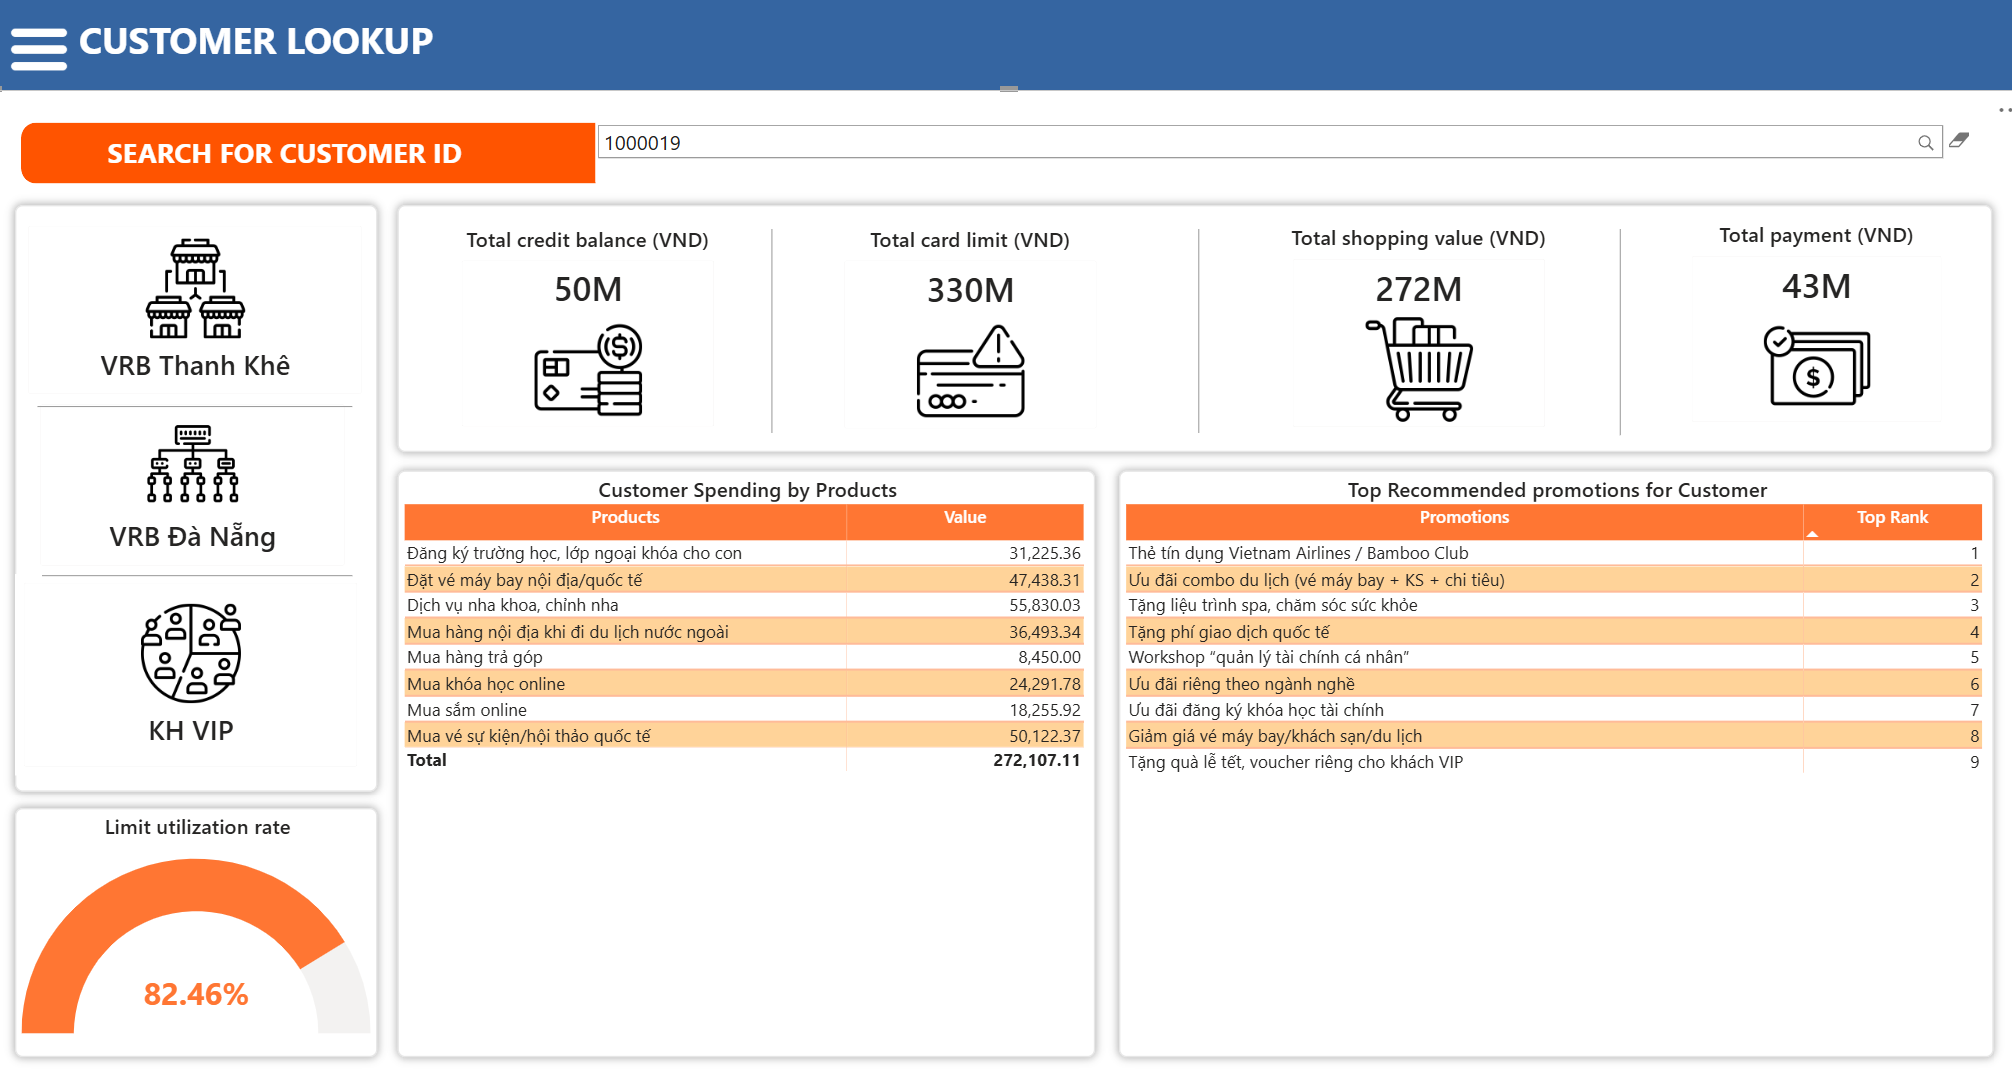

Layout of this report page (visuals, bound fields, positions):
{"tool":"powerbi","page":{"name":"Customer lookup","canvas":[4000,2133],"ordinal":2},"visuals":[{"type":"shape","box":[0,0,3998.8,187],"z":0},{"type":"shape","title":"TÌM KIẾM MÃ KHÁCH HÀNG","box":[63.6,250.6,1125.9,119.7],"z":0,"group":"g1"},{"type":"shape","box":[53.3,412.7,710.1,1149.4],"z":0,"group":"g2"},{"type":"shape","box":[1487.6,457.2,97.6,399.4],"z":0,"group":"g3"},{"type":"textbox","box":[80.8,267.6,997.7,87.1],"z":1000,"group":"g1"},{"type":"shape","box":[803.3,412.7,3124.3,483.7],"z":1000},{"type":"shape","box":[2290.9,457.2,159.8,399.4],"z":1000,"group":"g3"},{"type":"cardVisual","title":"Total credit balance (VND)","fields":{"Data":["DAX_MEASURE.GROUP_NAME"]},"box":[53.3,1136.1,687.9,395],"z":1000,"group":"g2"},{"type":"shape","box":[3116.3,457.2,159.8,403.8],"z":2000,"group":"g3"},{"type":"cardVisual","title":"Total credit balance (VND)","fields":{"Data":["DAX_MEASURE.brn_NAME"]},"box":[84.4,785.5,630.2,350.6],"z":2000,"group":"g2"},{"type":"textbox","box":[172.1,33.7,1298,119.7],"z":3000},{"type":"cardVisual","title":"Total credit balance (VND)","fields":{"Data":["DAX_MEASURE.su_brn_NAME"]},"box":[62.2,434.9,687.9,363.9],"z":3000,"group":"g2"},{"type":"cardVisual","title":"Total credit balance (VND)","fields":{"Data":["DAX_MEASURE.TT_CREDIT_BALANCE"]},"box":[910.7,448.3,528.1,412.7],"z":3000,"group":"g3"},{"type":"cardVisual","title":"Total card limit (VND)","fields":{"Data":["DAX_MEASURE.Card_limit"]},"box":[1660.7,448.3,528.1,417.2],"z":4000,"group":"g3"},{"type":"cardVisual","title":"Total payment (VND)","fields":{"Data":["DAX_MEASURE.TOTALPAYMENT"]},"box":[3320.5,439.4,523.7,412.7],"z":5000,"group":"g3"},{"type":"cardVisual","title":"Total shopping value (VND)","fields":{"Data":["Sum(CREDIT_USE_CUSTOMER.SHOPPING_VALUE)"]},"box":[2539.4,443.8,528.1,417.2],"z":6000,"group":"g3"},{"type":"gauge","title":"Limit utilization rate","fields":{"Y":["DAX_MEASURE.Tỷ lệ sử dụng hạn mức"]},"box":[53.3,1593.2,710.1,488.2],"z":8000},{"type":"group","id":"g1","title":"Group 9","box":[63.6,250.6,1125.9,119.7],"z":9000},{"type":"textFilter25A4896A83E0487089E2B90C9AE57C8A","fields":{"field":["CREDIT_USE_CUSTOMER.CUS_ID"]},"box":[1189.5,250.6,2708.2,116],"z":10000},{"type":"tableEx","title":"Customer Spending by Products","fields":{"Values":["DIM_PRODUCT.PD_NAME","Sum(CUS_X_PD.VALUE)"]},"box":[803.3,932,1366.9,1149.4],"z":11000},{"type":"group","id":"g2","title":"Group 1","box":[53.3,412.7,710.1,1149.4],"z":12000},{"type":"shape","box":[97.6,754.4,616.9,102.1],"z":13000},{"type":"shape","box":[106.5,1091.7,608,88.8],"z":14000},{"type":"group","id":"g3","title":"Group 2","box":[910.7,439.4,2933.4,426],"z":15000},{"type":"tableEx","title":"Top Recommended promotions for Customer","fields":{"Values":["RECOMMENDATION_PROGRAMS.cmpn","RECOMMENDATION_PROGRAMS.Top"]},"box":[2214.5,932,1713,1149.4],"z":16000},{"type":"image","title":"Image_C","box":[30.9,42.5,135.3,131.4],"z":17250}]}

Visuals, with their boxes in screenshot pixels (x1, y1, x2, y2), scaled from the page's 4000x2133 canvas onto the 2012x1076 screenshot:
shape: BBox(0, 0, 2011, 94)
"TÌM KIẾM MÃ KHÁCH HÀNG" shape: BBox(32, 126, 598, 187)
shape: BBox(27, 208, 384, 788)
shape: BBox(748, 231, 797, 432)
textbox: BBox(41, 135, 542, 179)
shape: BBox(404, 208, 1976, 452)
shape: BBox(1152, 231, 1233, 432)
"Total credit balance (VND)" cardVisual: BBox(27, 573, 373, 772)
shape: BBox(1567, 231, 1648, 434)
"Total credit balance (VND)" cardVisual: BBox(42, 396, 359, 573)
textbox: BBox(87, 17, 739, 77)
"Total credit balance (VND)" cardVisual: BBox(31, 219, 377, 403)
"Total credit balance (VND)" cardVisual: BBox(458, 226, 724, 434)
"Total card limit (VND)" cardVisual: BBox(835, 226, 1101, 437)
"Total payment (VND)" cardVisual: BBox(1670, 222, 1934, 430)
"Total shopping value (VND)" cardVisual: BBox(1277, 224, 1543, 434)
"Limit utilization rate" gauge: BBox(27, 804, 384, 1050)
"Group 9" group: BBox(32, 126, 598, 187)
textFilter25A4896A83E0487089E2B90C9AE57C8A - CREDIT_USE_CUSTOMER.CUS_ID: BBox(598, 126, 1961, 185)
"Customer Spending by Products" tableEx: BBox(404, 470, 1092, 1050)
"Group 1" group: BBox(27, 208, 384, 788)
shape: BBox(49, 381, 359, 432)
shape: BBox(54, 551, 359, 596)
"Group 2" group: BBox(458, 222, 1934, 437)
"Top Recommended promotions for Customer" tableEx: BBox(1114, 470, 1976, 1050)
"Image_C" image: BBox(16, 21, 84, 88)
